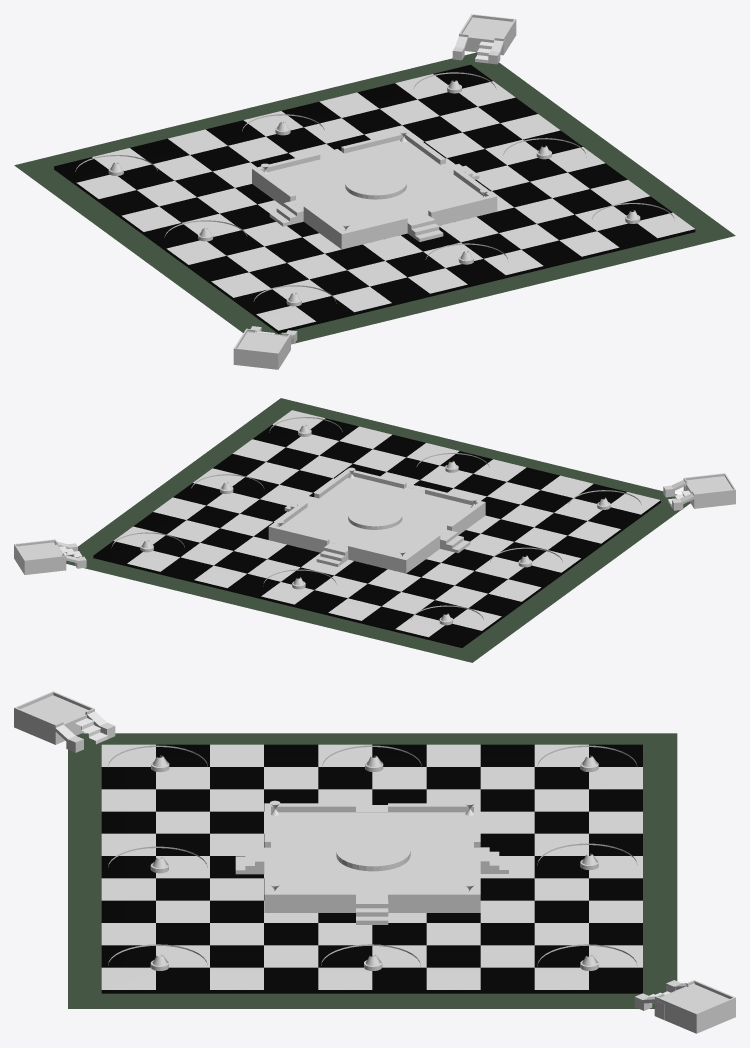
Rendered from 3D_Map3_V6.gltf.
The picture shows the model from 3 angles, top to bottom: view 1: azimuth 30°, elevation 25°; view 2: azimuth 150°, elevation 25°; view 3: azimuth 270°, elevation 25°; orthographic projection. The views are drawn at different scales.
Parts seen in each view (by area): view 1: Chess, Board, Stage, Cube.005, MidStage, Cube.002, Stairs.001, Stairs.003; view 2: Chess, Board, Stage, Cube.002, Cube.005, MidStage, Stairs.002, Stairs.003; view 3: Chess, Board, Stage, Cube.002, Cube.005, MidStage, Stairs.007, Stairs.001, Stairs.002.
Part boxes in pixels (x1,y1,x2,y2): Chess: (54, 64, 695, 333); Board: (14, 52, 735, 344); Stage: (252, 131, 497, 249); Cube.005: (233, 328, 290, 369); MidStage: (345, 169, 406, 199); Cube.002: (459, 14, 516, 55); Stairs.001: (407, 217, 443, 241); Stairs.003: (269, 201, 303, 226); Chess: (93, 410, 660, 647); Board: (66, 398, 690, 662); Stage: (268, 469, 485, 573); Cube.002: (14, 539, 66, 574); Cube.005: (683, 473, 735, 508); MidStage: (348, 503, 402, 529); Stairs.002: (316, 545, 348, 566); Stairs.003: (440, 531, 470, 553); Chess: (101, 744, 642, 993); Board: (68, 733, 677, 1008); Stage: (264, 803, 480, 912); Cube.002: (655, 980, 735, 1033); Cube.005: (14, 691, 94, 744); MidStage: (336, 835, 410, 871); Stairs.007: (356, 900, 388, 924); Stairs.001: (235, 847, 264, 874); Stairs.002: (480, 847, 508, 873).
Bounding box in the file's own units: 83.09 × 3.35 × 78.47.
